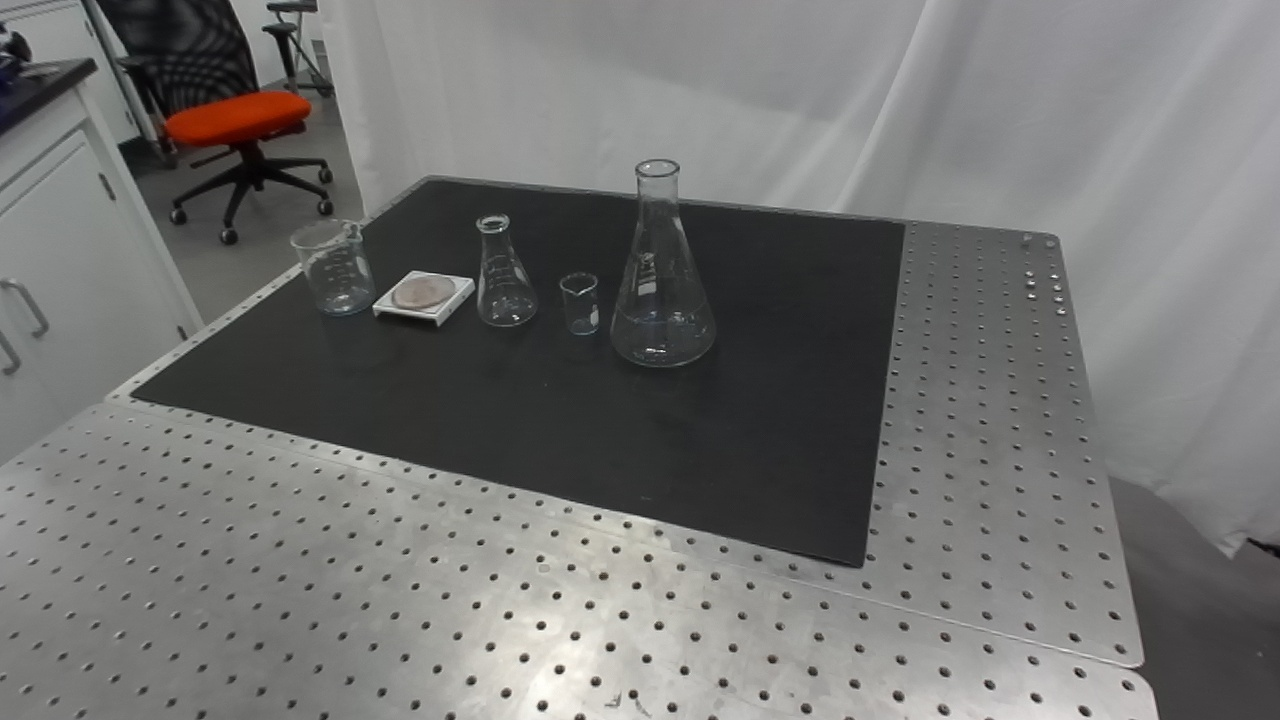glass: (605, 156, 722, 373), (469, 210, 541, 332), (292, 216, 373, 319), (557, 271, 603, 343)
plate: (371, 266, 474, 333)
